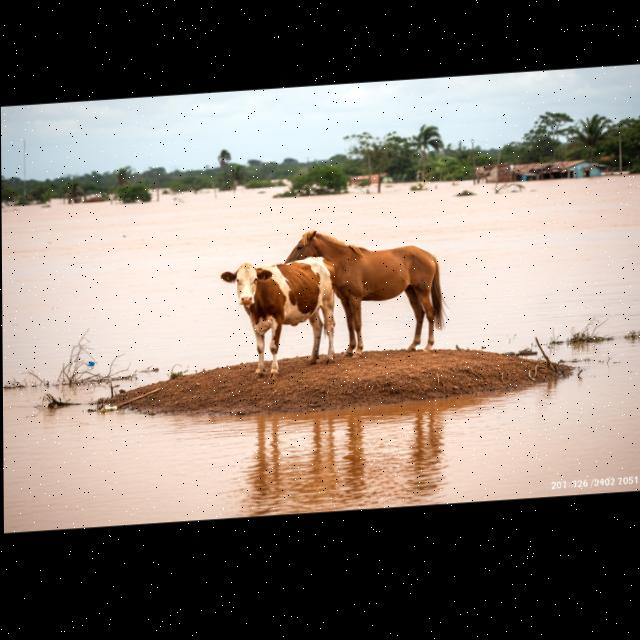cow: (217, 250, 345, 382)
horse: (278, 219, 456, 367)
